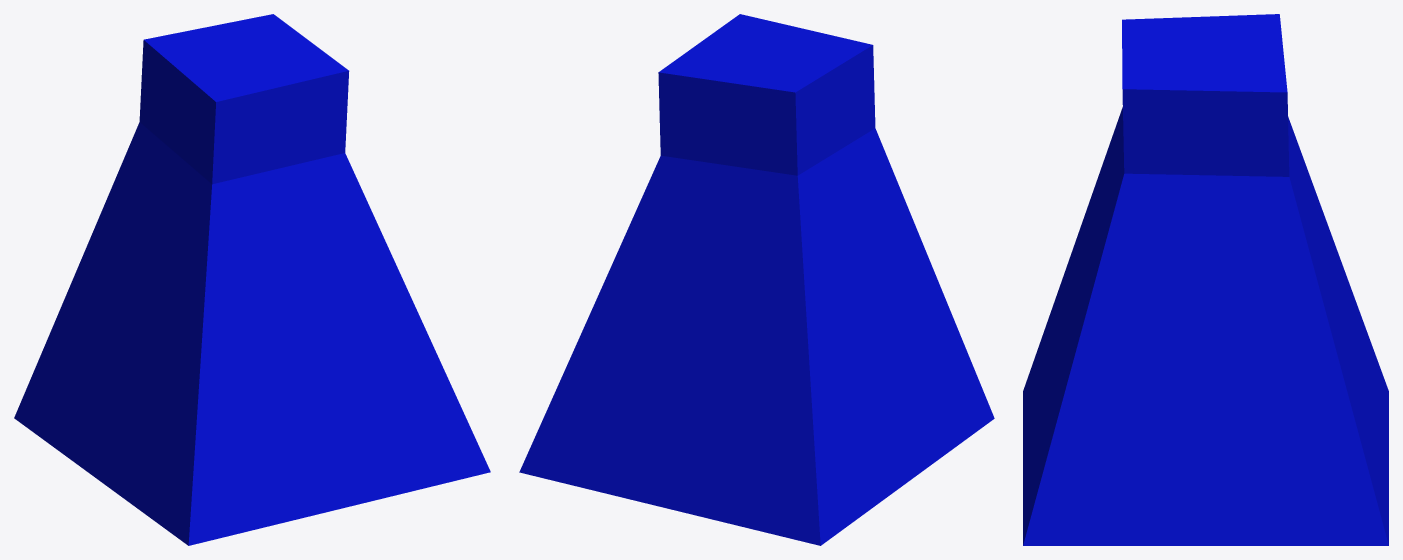
3 renders of one model, left to right at view 1: azimuth 30°, elevation 25°; view 2: azimuth 150°, elevation 25°; view 3: azimuth 270°, elevation 25°, orthographic. The views are drawn at different scales.
Visible parts, largest first — view 1: Cube; view 2: Cube; view 3: Cube.
Part boxes in pixels (x1,y1,x2,y2): Cube: (14,14,490,545); Cube: (519,14,994,545); Cube: (1023,14,1388,545).
Bounding box in the file's own units: 2 × 2.51 × 2.
